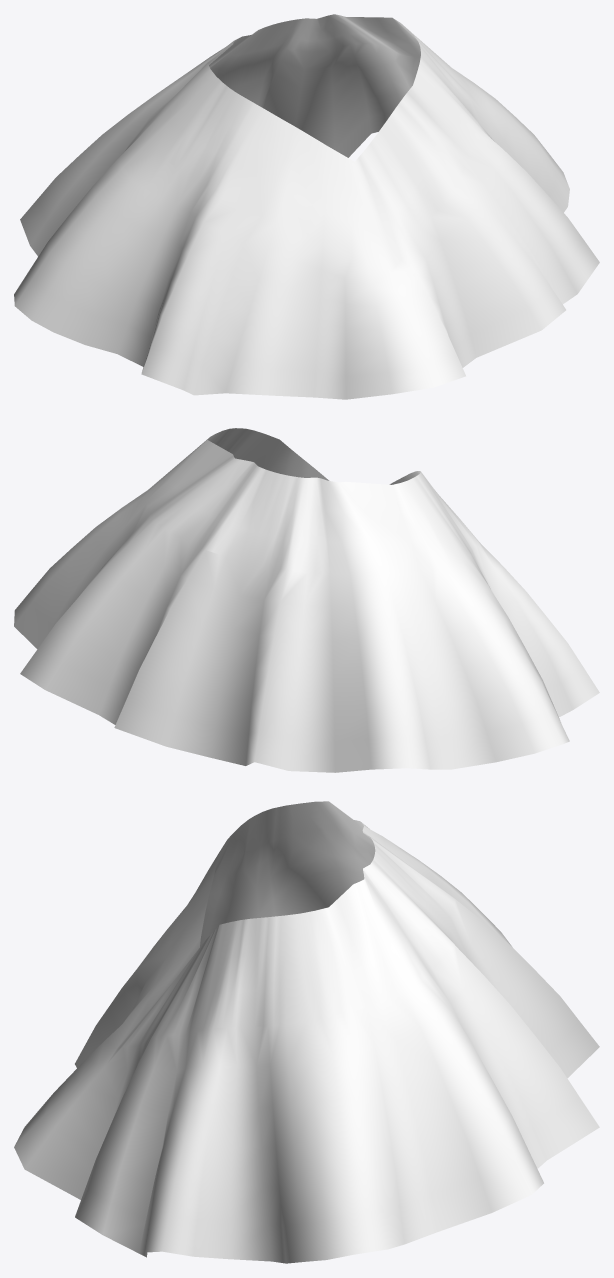
File: Skirt_Short.FBX
3 views of the same model, one above another, from view 1: azimuth 30°, elevation 25°; view 2: azimuth 150°, elevation 25°; view 3: azimuth 270°, elevation 25° (orthographic). The views are drawn at different scales.
Visible parts, largest first — view 1: Skirt_Short; view 2: Skirt_Short; view 3: Skirt_Short.
Part boxes in pixels (<box>): Skirt_Short: <box>14,14,599,399</box>; Skirt_Short: <box>14,428,599,772</box>; Skirt_Short: <box>14,801,599,1263</box>.
Bounding box in the file's own units: 0.559 × 0.2676 × 0.4401.
